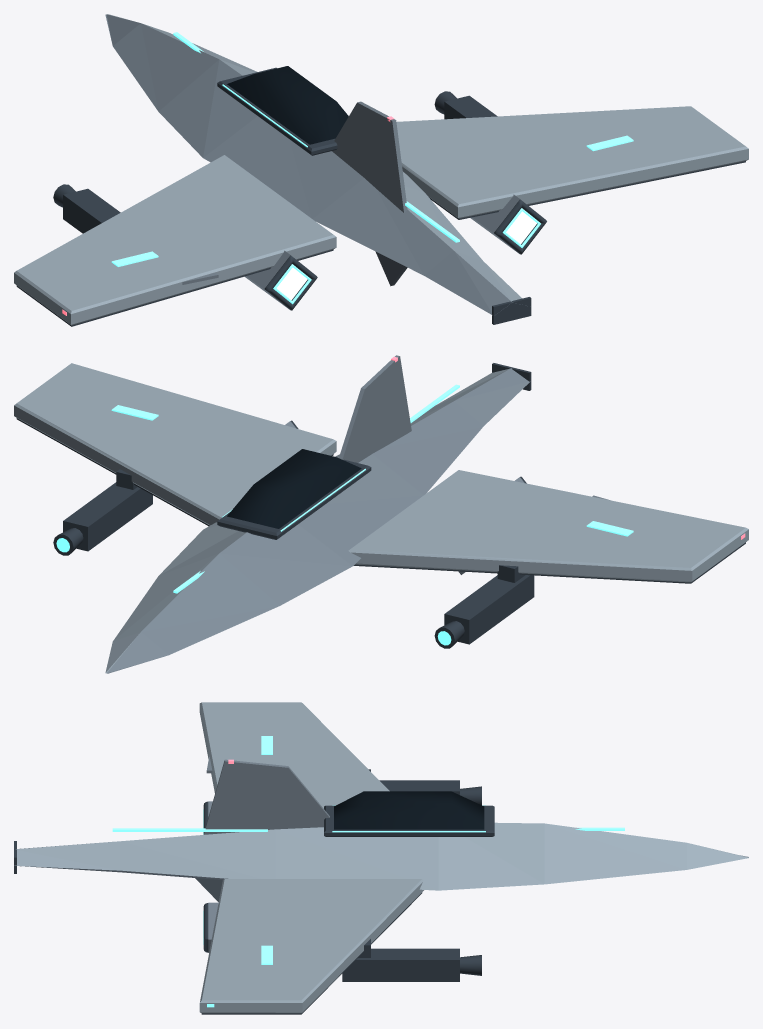
File: strix-9.glb
3 views of the same model, one above another, from view 1: azimuth 30°, elevation 25°; view 2: azimuth 150°, elevation 25°; view 3: azimuth 270°, elevation 25° (orthographic). The views are drawn at different scales.
Parts seen in each view (by area): view 1: static-side, port-wing, starboard-wing, static-trim, cockpit-canopy, static-hull, static-teal, port-weapon-mount, starboard-weapon-mount, starboard-engine-housing, port-engine-housing, port-engine-core (+1 smaller); view 2: static-side, port-wing, starboard-wing, cockpit-canopy, static-hull, static-trim, port-weapon-mount, starboard-weapon-mount, static-teal; view 3: static-hull, starboard-wing, port-wing, static-side, cockpit-canopy, starboard-weapon-mount, static-trim, static-teal, port-weapon-mount, static-belly.
Part boxes in pixels (left/top/right/bottom): static-side: left=105, top=14, right=512, bottom=315; port-wing: left=14, top=155, right=336, bottom=325; starboard-wing: left=396, top=106, right=748, bottom=218; static-trim: left=16, top=67, right=745, bottom=326; cockpit-canopy: left=227, top=66, right=348, bottom=144; static-hull: left=107, top=14, right=521, bottom=301; static-teal: left=111, top=32, right=633, bottom=304; port-weapon-mount: left=63, top=188, right=120, bottom=233; starboard-weapon-mount: left=444, top=95, right=497, bottom=119; starboard-engine-housing: left=470, top=194, right=545, bottom=253; port-engine-housing: left=245, top=250, right=313, bottom=310; port-engine-core: left=276, top=267, right=307, bottom=300; static-side: left=107, top=355, right=530, bottom=673; port-wing: left=348, top=470, right=748, bottom=582; starboard-wing: left=14, top=363, right=336, bottom=525; cockpit-canopy: left=227, top=449, right=361, bottom=528; static-hull: left=105, top=368, right=509, bottom=673; static-trim: left=16, top=363, right=745, bottom=648; port-weapon-mount: left=444, top=575, right=534, bottom=644; starboard-weapon-mount: left=63, top=482, right=152, bottom=551; static-teal: left=56, top=384, right=633, bottom=645; static-hull: left=14, top=822, right=748, bottom=890; starboard-wing: left=199, top=879, right=423, bottom=1013; port-wing: left=199, top=702, right=389, bottom=808; static-side: left=20, top=759, right=748, bottom=857; cockpit-canopy: left=334, top=791, right=484, bottom=829; starboard-weapon-mount: left=342, top=948, right=459, bottom=981; static-trim: left=14, top=769, right=494, bottom=1014; static-teal: left=112, top=736, right=624, bottom=1007; port-weapon-mount: left=379, top=780, right=459, bottom=794; static-belly: left=20, top=866, right=227, bottom=901.
Bounding box in the file's own units: 4.34 × 1.02 × 4.5.
